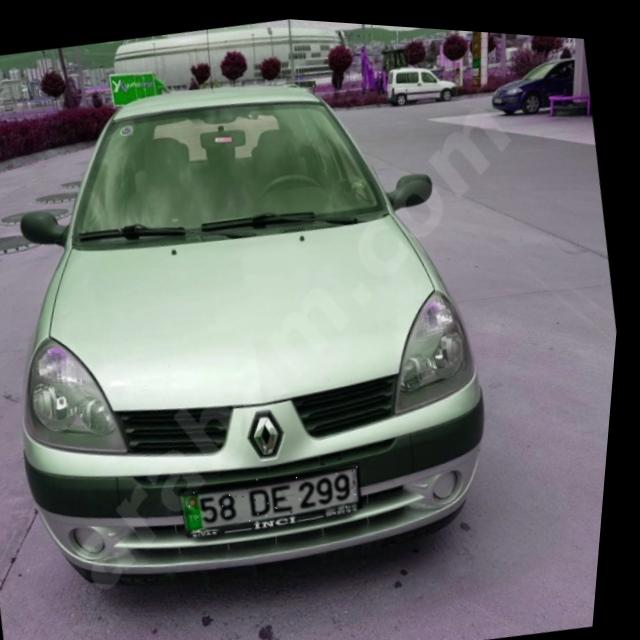license_plate: (186, 452, 374, 536)
